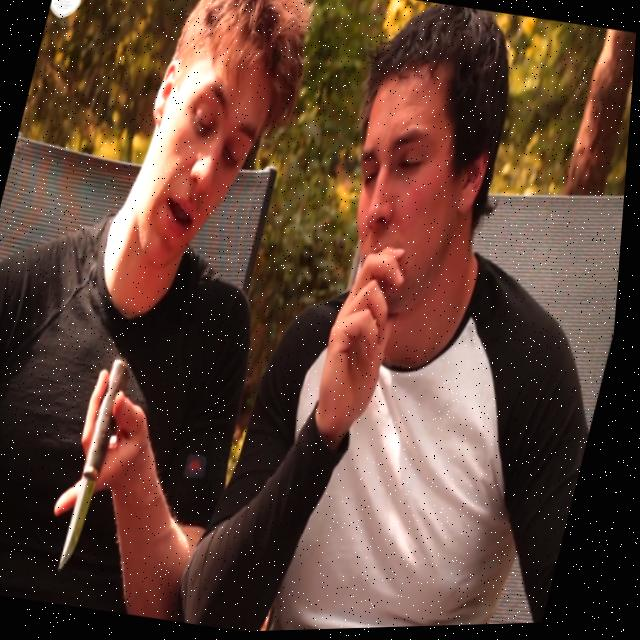knife: (64, 356, 140, 577)
